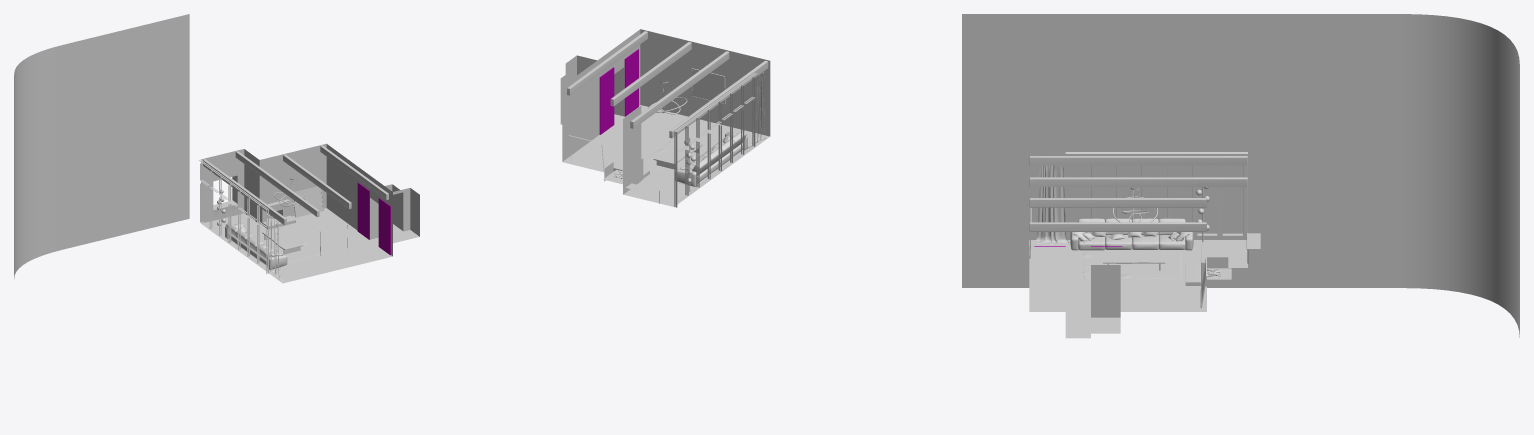
The model's file is building.glb.
3 views of the same model, side by side, from view 1: azimuth 30°, elevation 25°; view 2: azimuth 150°, elevation 25°; view 3: azimuth 270°, elevation 25° (orthographic). The views are drawn at different scales.
Visible parts, largest first — view 1: background, mur, sol, poutre, fenetres, rideau, sofa, cadre, tapis, table; view 2: mur, sol, poutre, fenetres, rideau, sofa, cadre, tapis, table; view 3: background, sol, poutre, mur, fenetres, sofa, tapis, rideau, table.
Boxes of the visible parts, <box> form: background: <box>14,14,189,278</box>; mur: <box>201,143,419,256</box>; sol: <box>201,208,419,283</box>; poutre: <box>203,145,388,229</box>; fenetres: <box>198,159,268,273</box>; rideau: <box>270,182,390,281</box>; sofa: <box>224,222,287,270</box>; cadre: <box>294,186,347,255</box>; tapis: <box>253,227,320,262</box>; table: <box>262,228,303,254</box>; mur: <box>560,29,770,194</box>; sol: <box>561,105,769,206</box>; poutre: <box>567,31,768,203</box>; fenetres: <box>674,72,757,207</box>; rideau: <box>599,49,765,148</box>; sofa: <box>675,131,747,187</box>; cadre: <box>569,68,725,169</box>; tapis: <box>643,137,713,178</box>; table: <box>653,139,702,169</box>; background: <box>962,14,1519,337</box>; sol: <box>1029,240,1247,338</box>; poutre: <box>1029,156,1260,286</box>; mur: <box>1029,153,1262,317</box>; fenetres: <box>1065,152,1247,239</box>; sofa: <box>1070,218,1193,251</box>; tapis: <box>1083,252,1181,278</box>; rideau: <box>1033,165,1122,246</box>; table: <box>1103,250,1165,270</box>.
Size of the model in its own units: 15.88 by 11.77 by 21.7.
